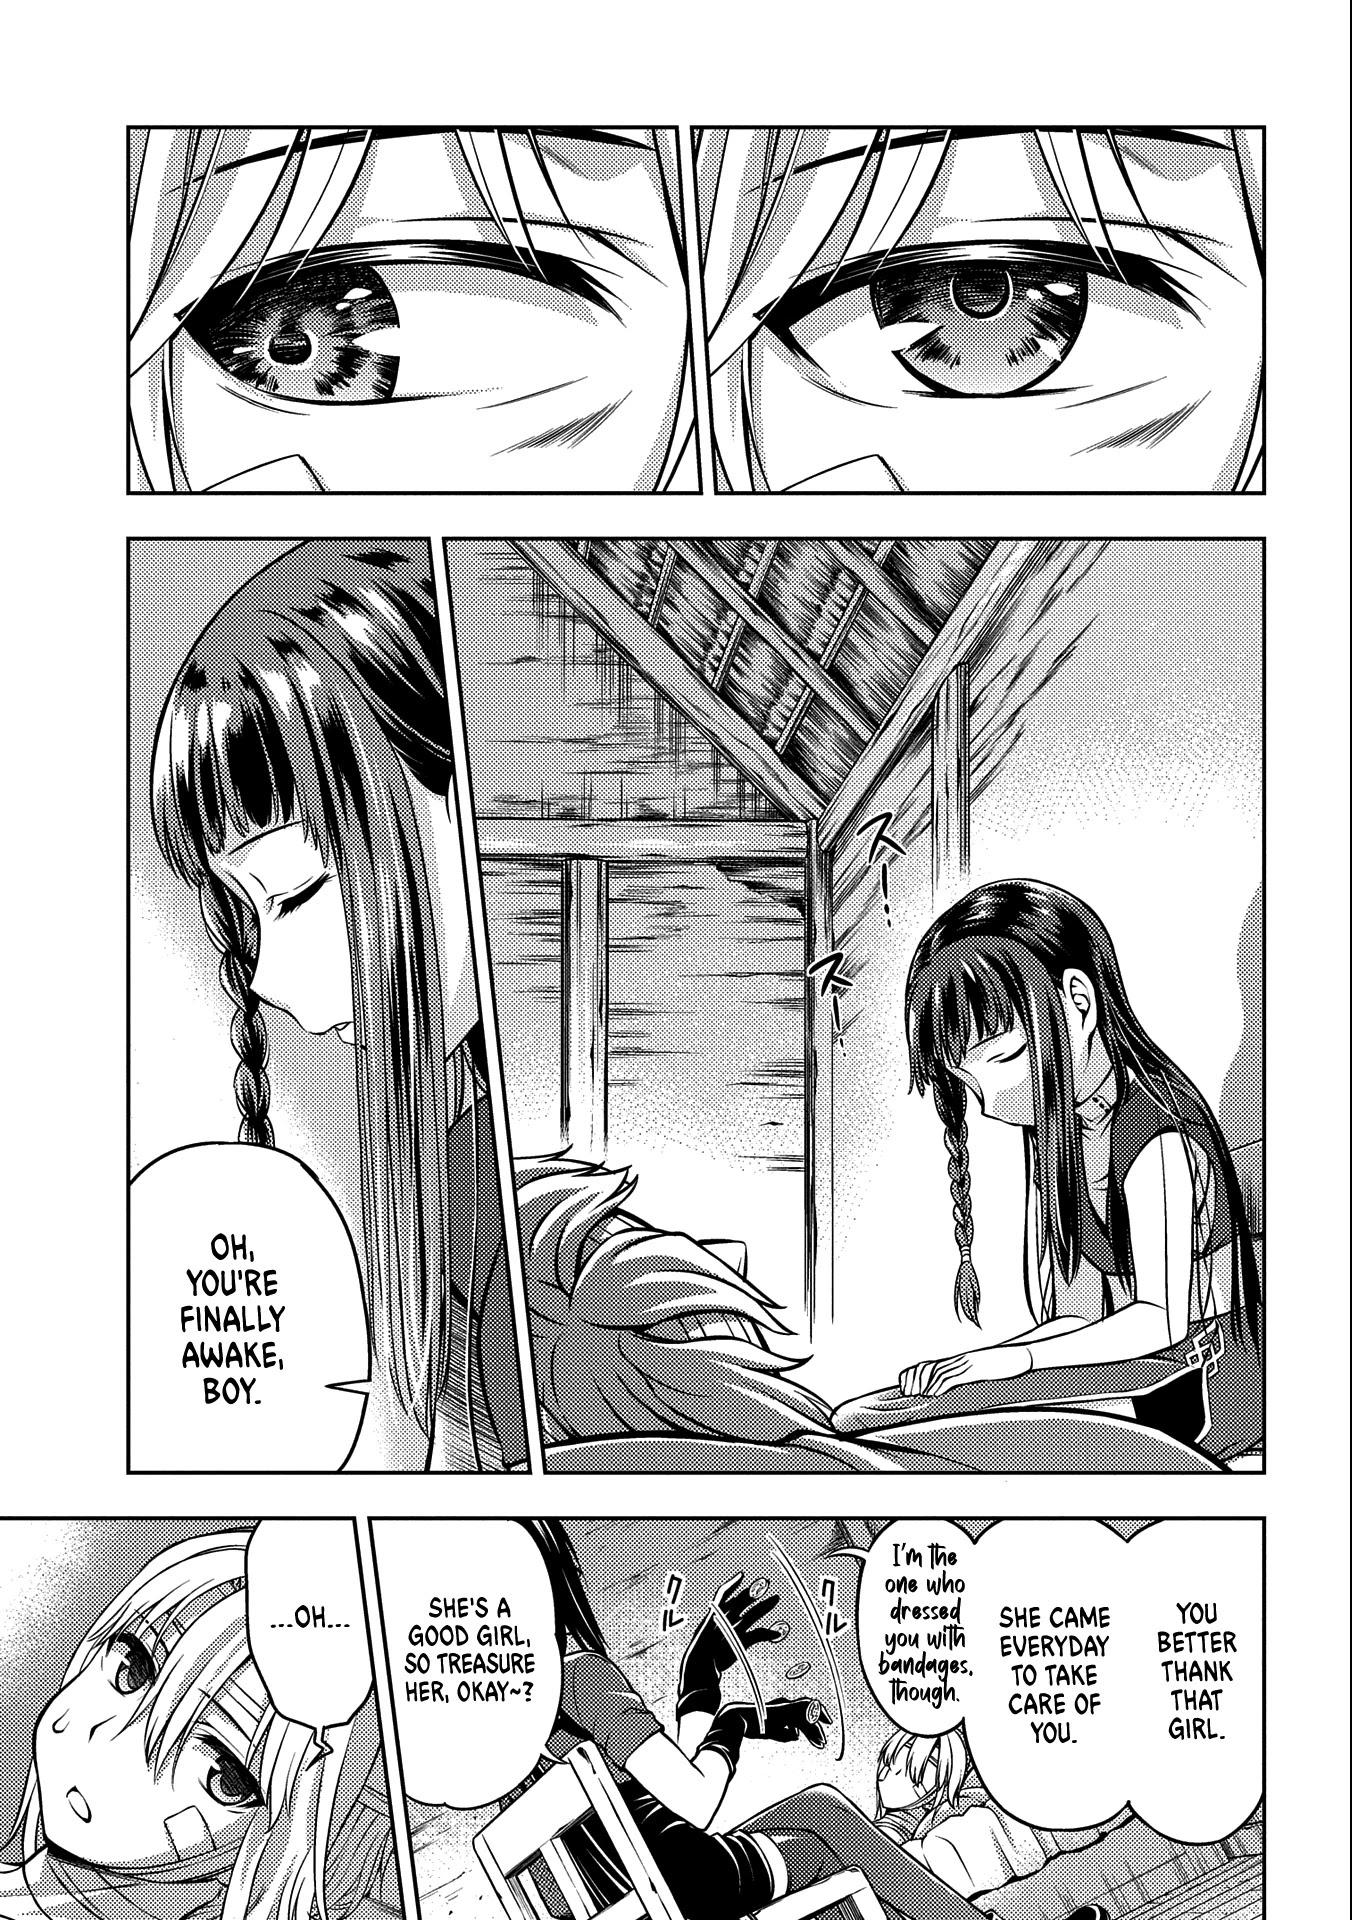Bubble: (121, 1133, 375, 1485), (375, 1515, 568, 1812), (977, 1509, 1134, 1832), (1134, 1510, 1272, 1848), (239, 1510, 378, 1737), (849, 1510, 977, 1739)
